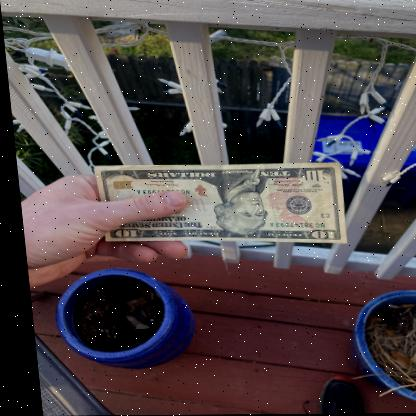ten-front: (93, 163, 342, 244)
